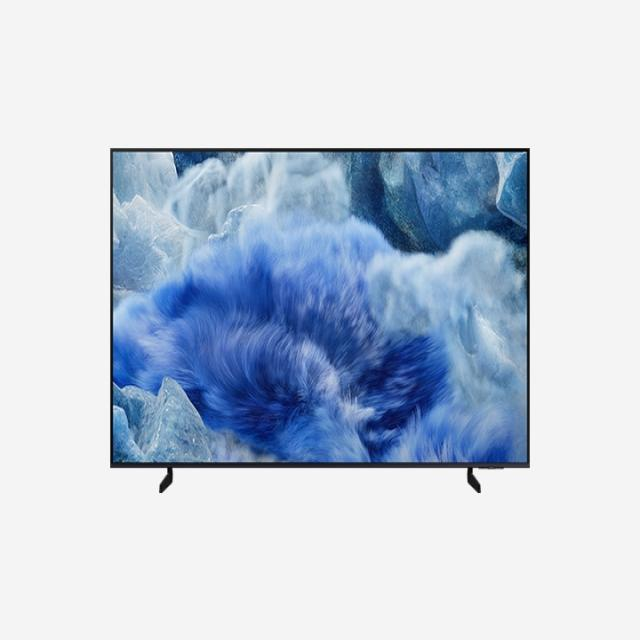electronics: (111, 148, 526, 465)
